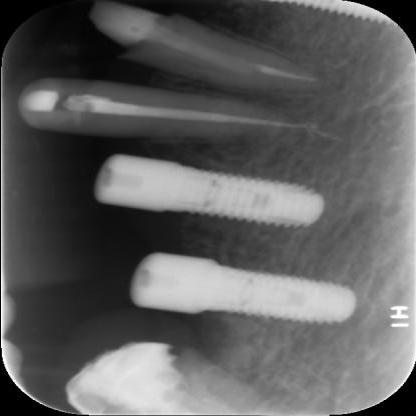Bego: (115, 244, 359, 350), (91, 142, 325, 250)
